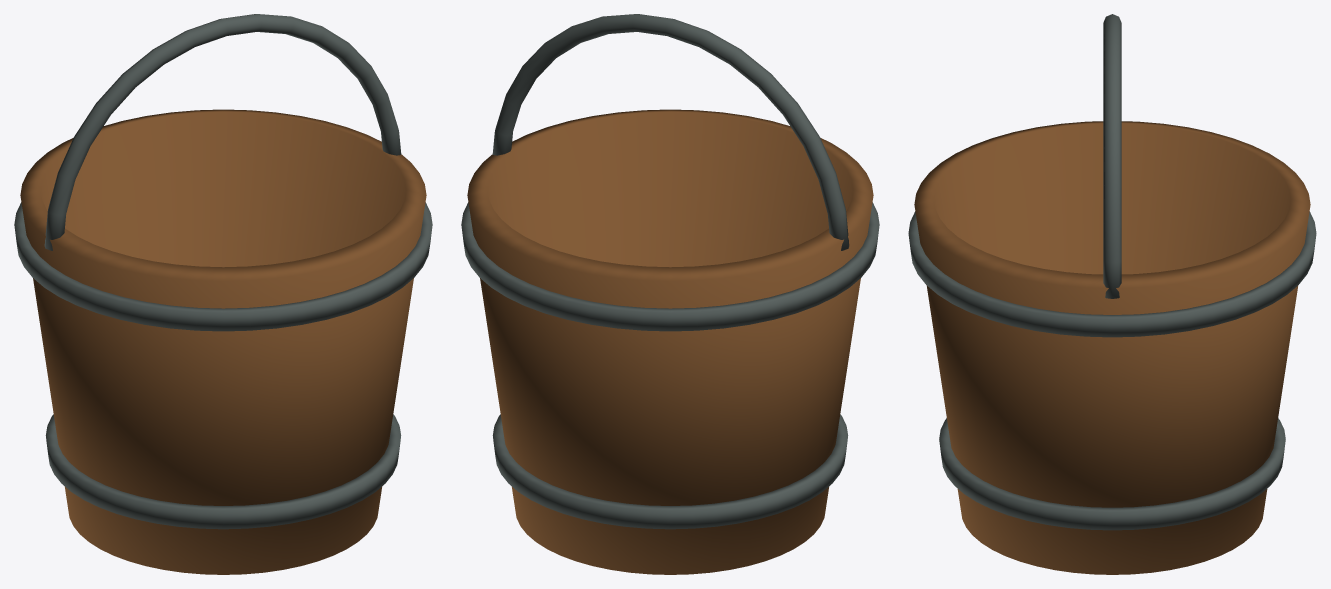
Rendered from SM_Prop_Bucket_Handle.fbx.
3 views of the same model, side by side, from view 1: azimuth 30°, elevation 25°; view 2: azimuth 150°, elevation 25°; view 3: azimuth 270°, elevation 25° (orthographic). The views are drawn at different scales.
Parts seen in each view (by area): view 1: Bucket_open_shell.001, Bucket_band.003, Bucket_pivot_handle, Bucket_band.002; view 2: Bucket_open_shell.001, Bucket_band.003, Bucket_pivot_handle, Bucket_band.002; view 3: Bucket_open_shell.001, Bucket_band.003, Bucket_band.002, Bucket_pivot_handle.
Boxes of the visible parts, box(x1,y1,x2,y2) form: Bucket_open_shell.001: box(20, 109, 426, 574); Bucket_band.003: box(14, 202, 432, 331); Bucket_pivot_handle: box(44, 14, 401, 250); Bucket_band.002: box(45, 414, 401, 529); Bucket_open_shell.001: box(467, 109, 873, 574); Bucket_band.003: box(461, 202, 879, 331); Bucket_pivot_handle: box(492, 14, 849, 250); Bucket_band.002: box(492, 414, 848, 529); Bucket_open_shell.001: box(914, 121, 1310, 574); Bucket_band.003: box(908, 211, 1316, 337); Bucket_band.002: box(939, 418, 1285, 530); Bucket_pivot_handle: box(1103, 14, 1121, 298).
Size of what is drawn, in the model's own units: 35.01 by 35.01 by 45.3.
